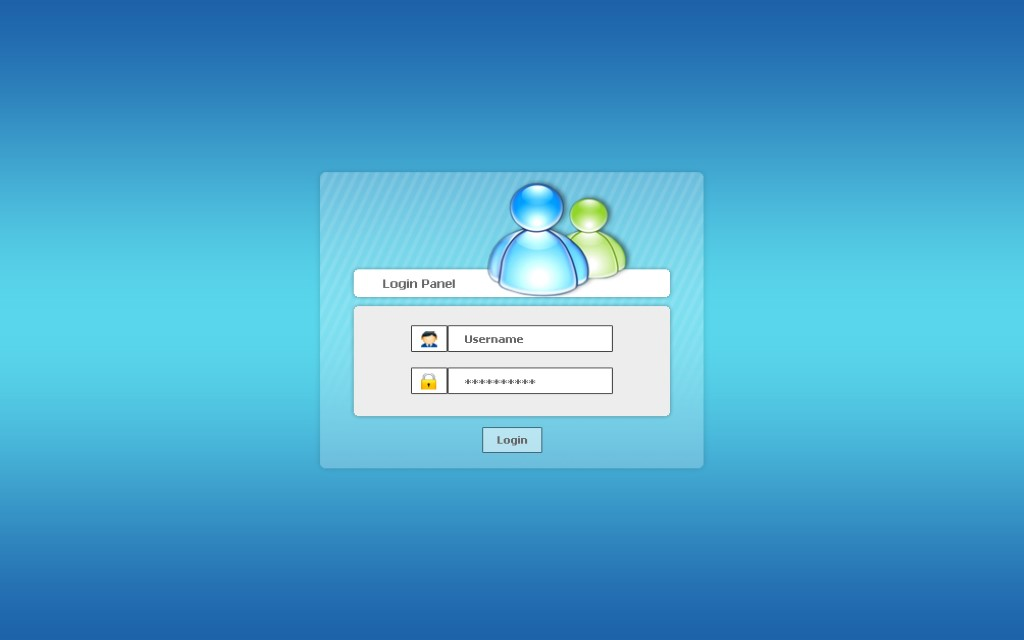button: (483, 429, 542, 451)
button_Login: (482, 429, 547, 454)
label_Username: (464, 333, 524, 345)
label_login: (496, 433, 531, 448)
textbox: (449, 367, 614, 393), (449, 324, 613, 350)
textbox_Password: (410, 367, 616, 396)
textbox_username: (410, 323, 616, 353)
